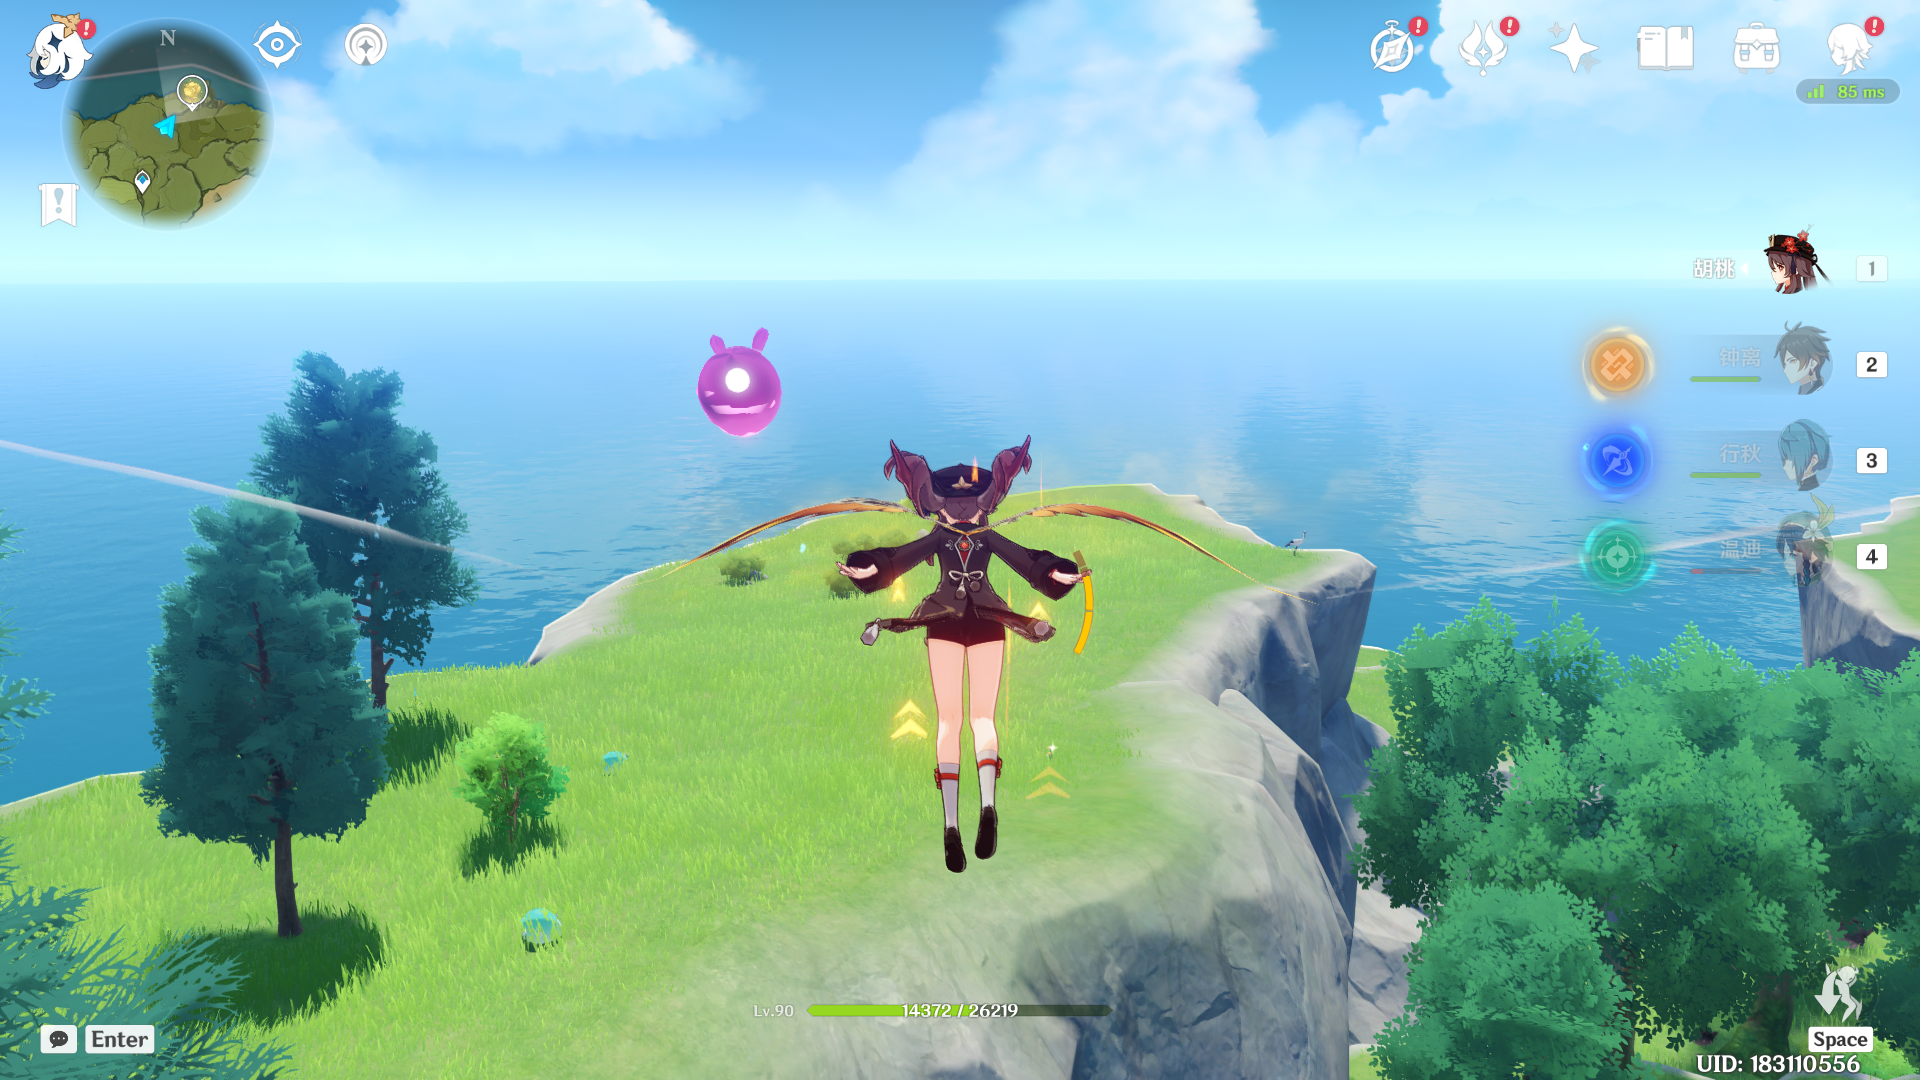character: (777, 396, 1129, 873)
